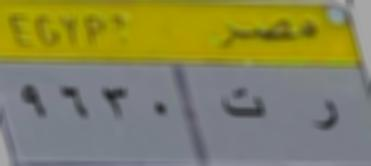0: (150, 92, 172, 129)
3: (98, 78, 134, 126)
6: (59, 81, 94, 121)
9: (16, 78, 48, 124)
raa: (304, 88, 343, 136)
taa: (216, 82, 267, 126)
